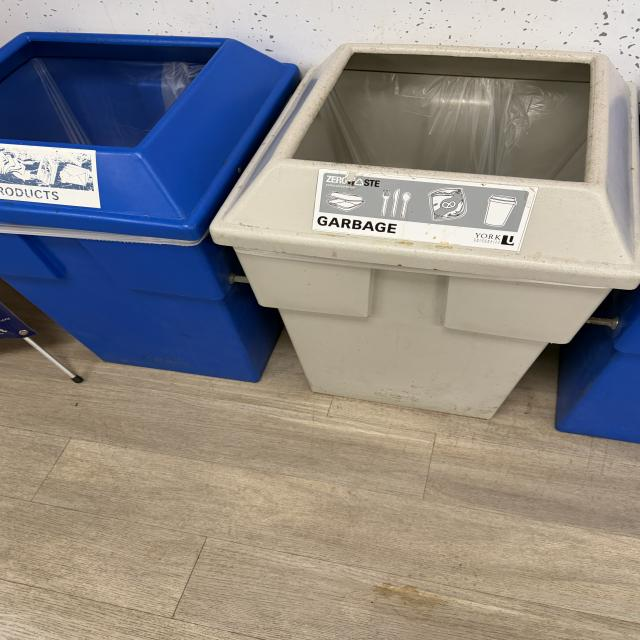Dustbin: (0, 31, 640, 442)
